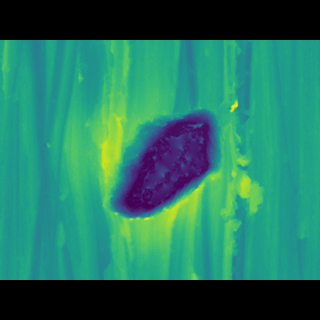Loch: (0, 69, 83, 251), (99, 119, 233, 207), (222, 70, 262, 250)
